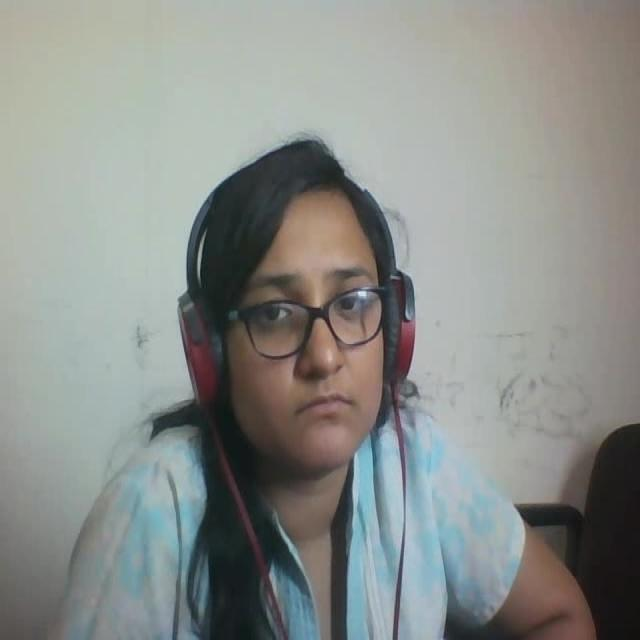Engaged: (164, 87, 477, 501)
